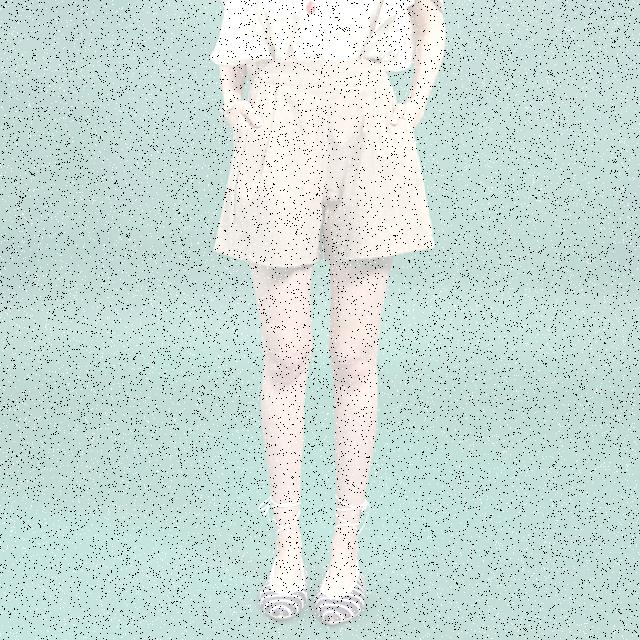Blouse_deep: (205, 52, 447, 258)
